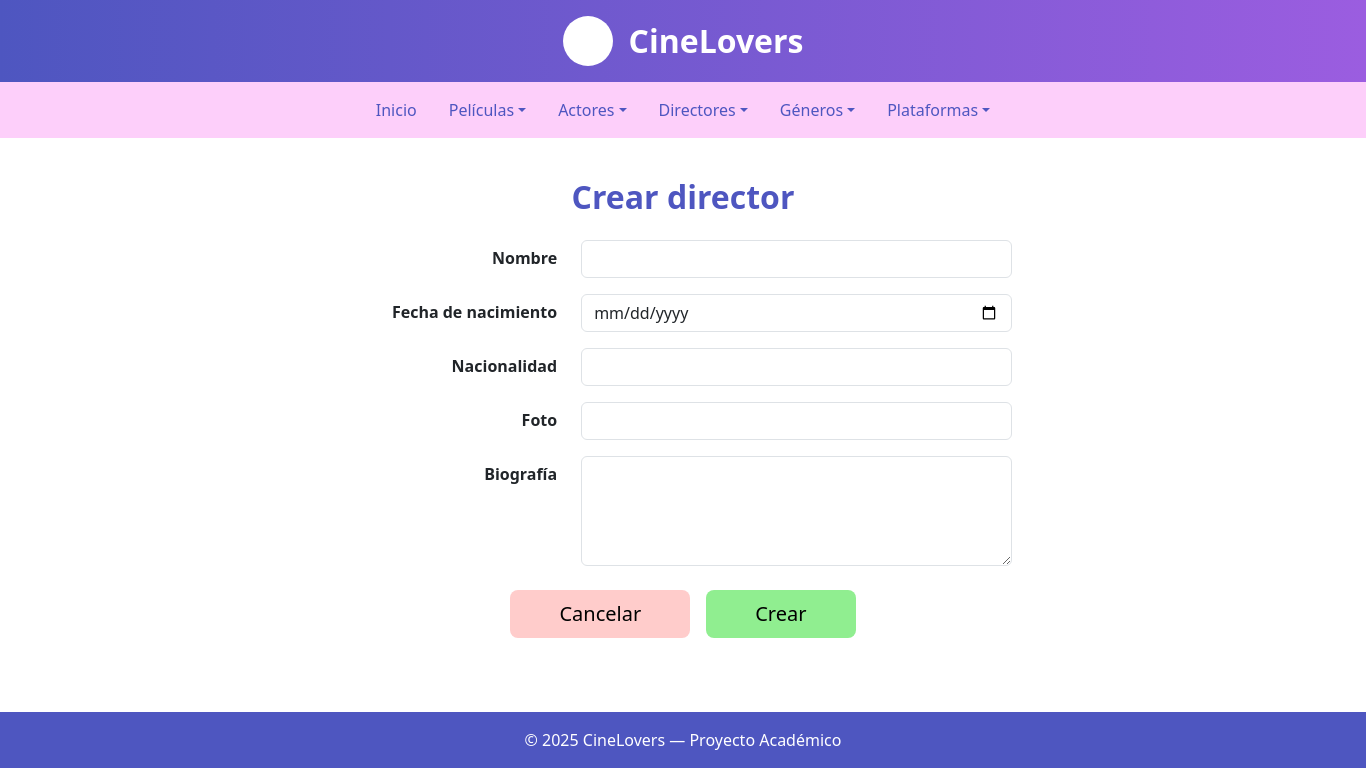
HU12: Crear un director › CP02_HU12 - No debe permitir crear director sin campos obligatorios
Expected: the heading "Crear director" is shown, [572,175,794,218]
Click the submit button. click: coordinates (781, 614)
box: [706,590,855,638]
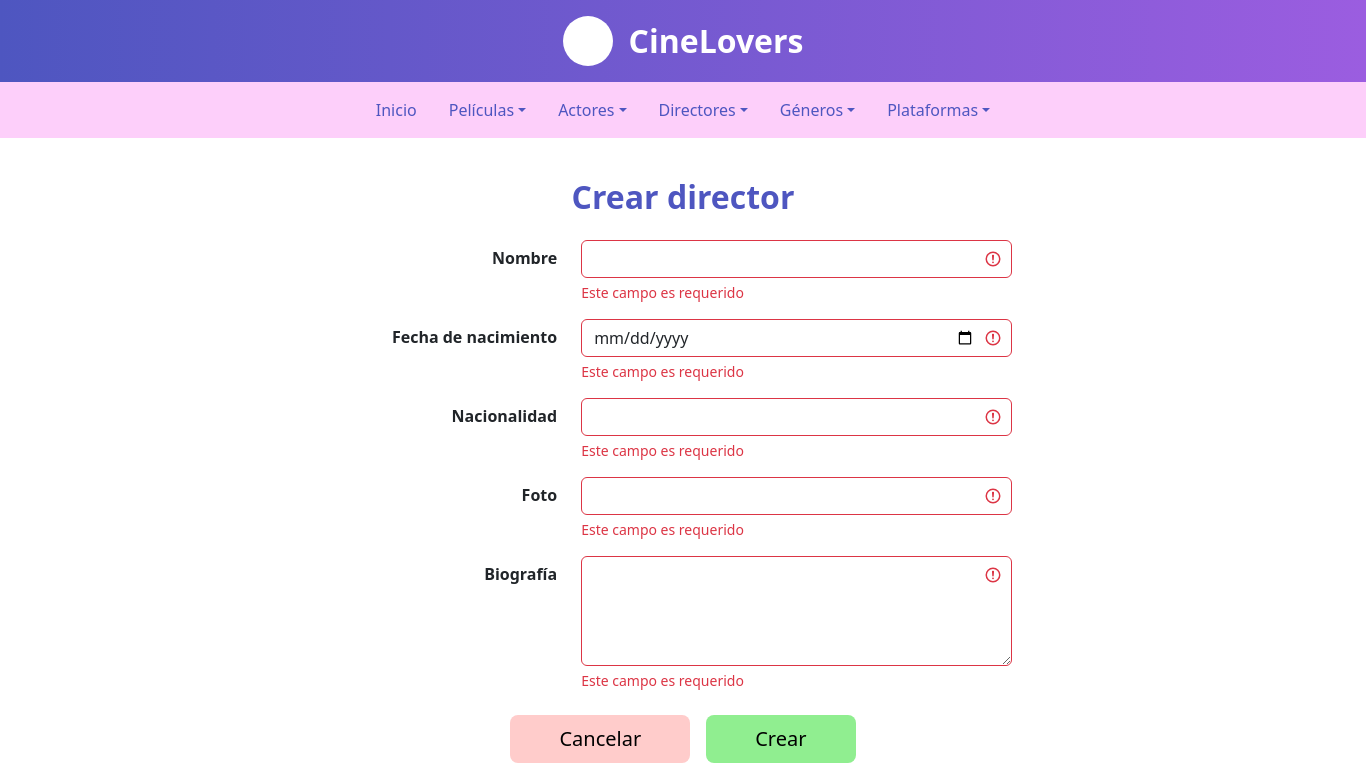
Expected: the form is shown, [354,240,1013,763]
Now the text with class "d-block" below "Nombre" reads "Este campo es requerido", box [581,283,744,302]
